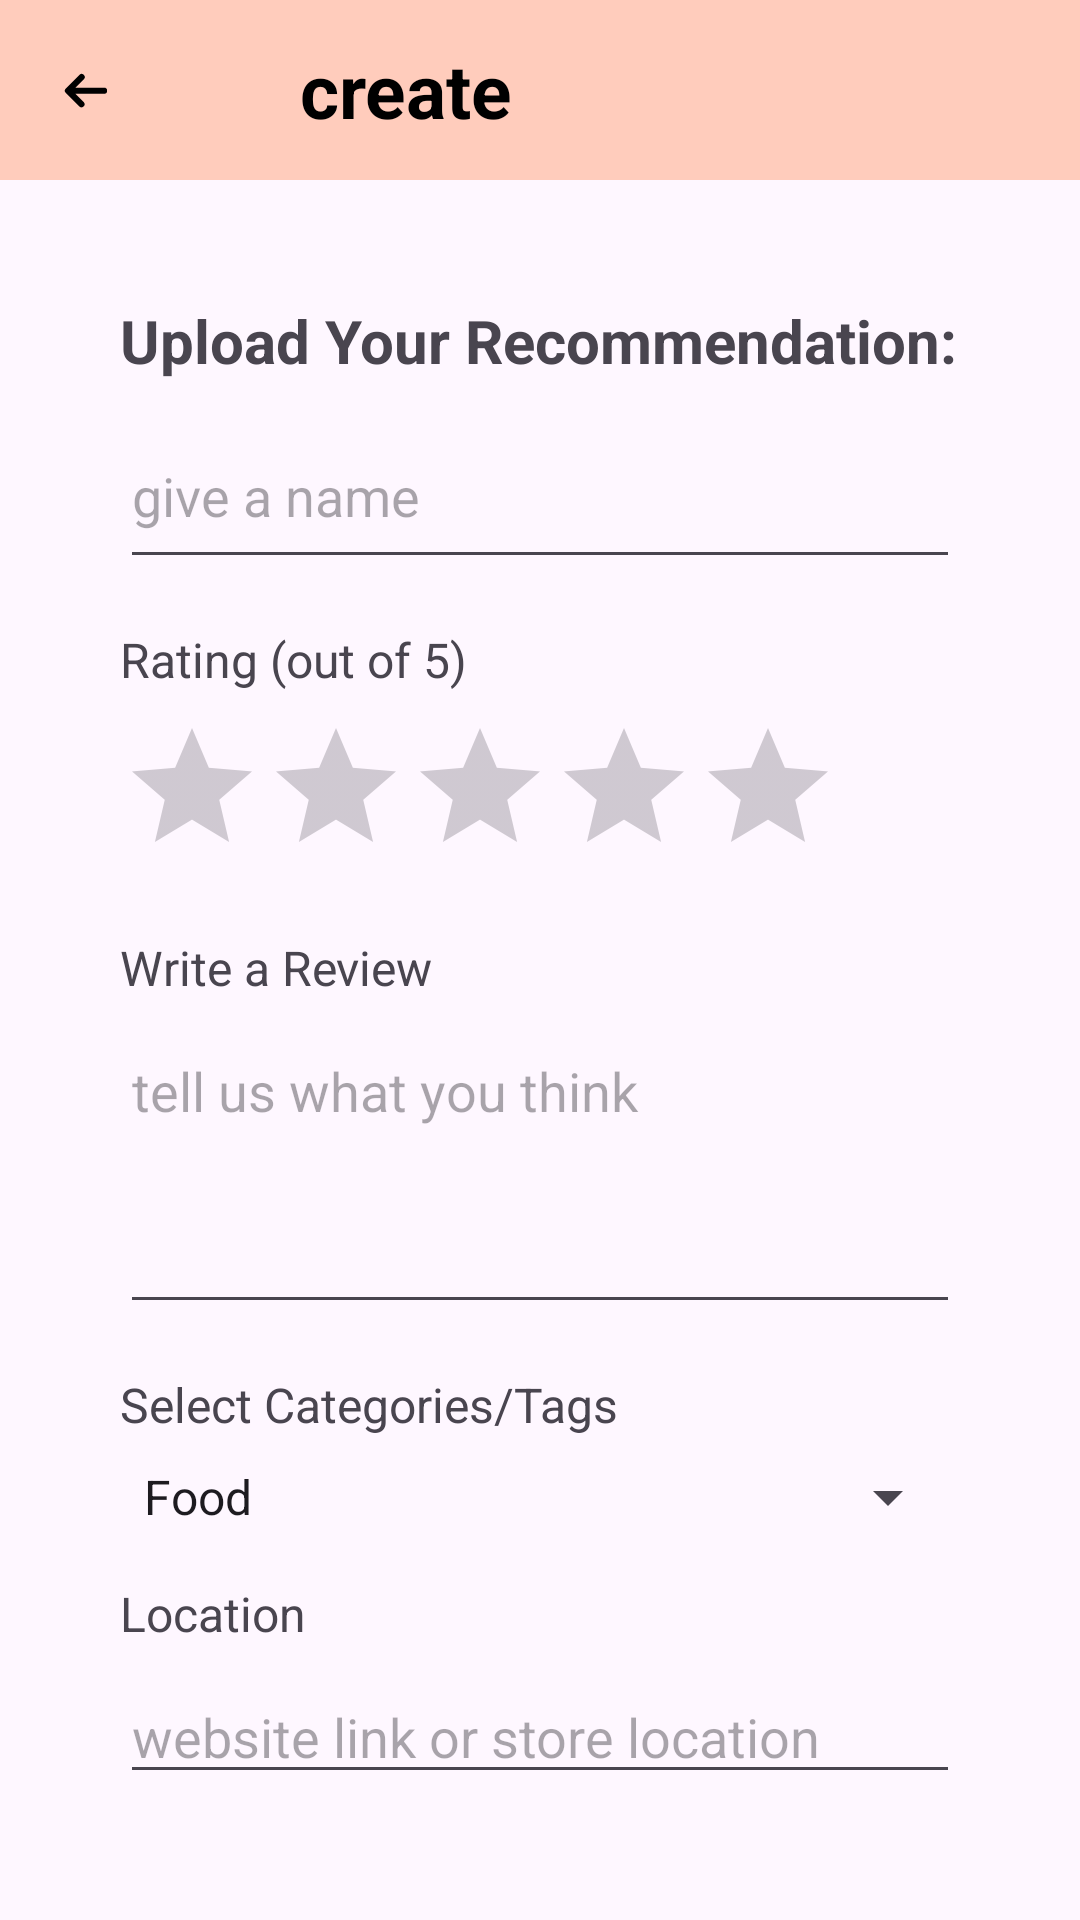

Icons on this 1080×1920 Android screen, each with the point to tap as (x,y):
arrow left: (85,90)
